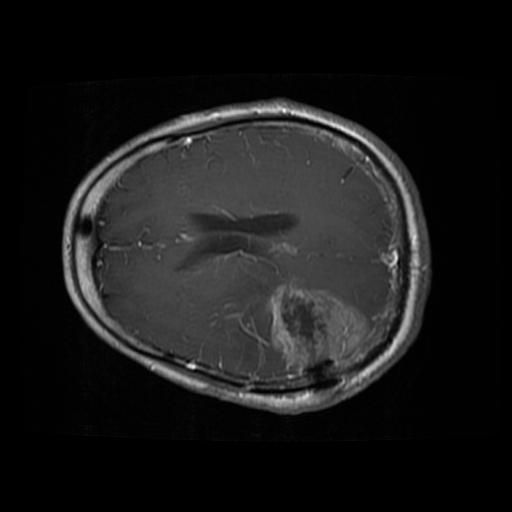glioma: (265, 279, 368, 375)
